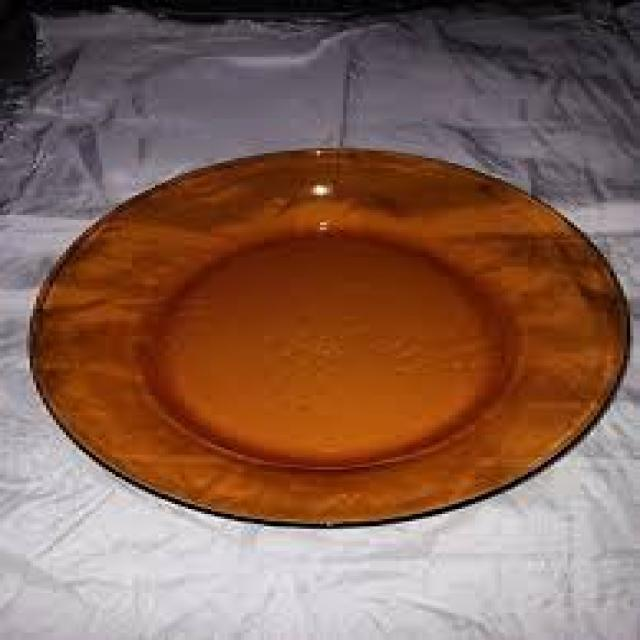glass: (23, 146, 627, 526)
